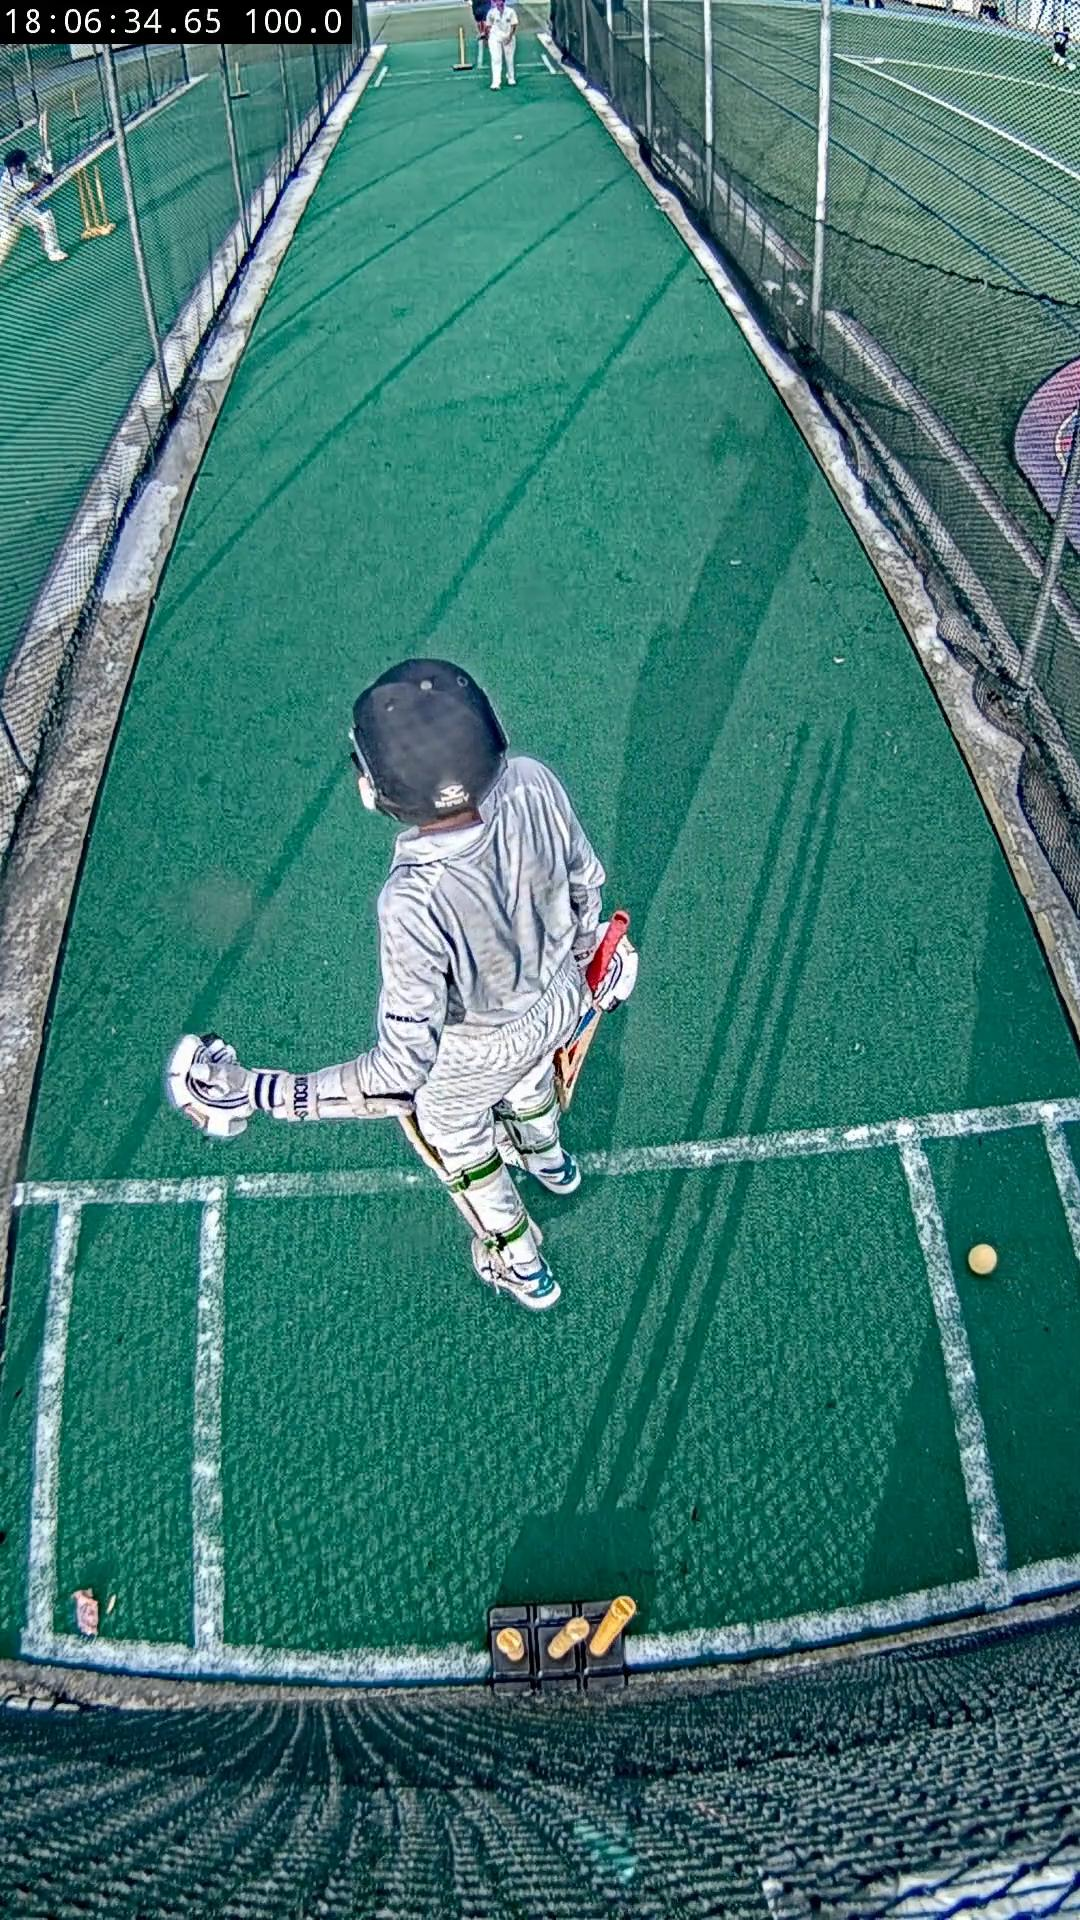ball: (968, 1241, 997, 1273)
bat: (555, 1005, 604, 1114), (585, 911, 630, 994)
gloves: (165, 1035, 255, 1138), (592, 938, 637, 1013)
helmet: (352, 659, 506, 825)
pads: (397, 1114, 484, 1234)
stumps: (488, 1594, 637, 1692)
